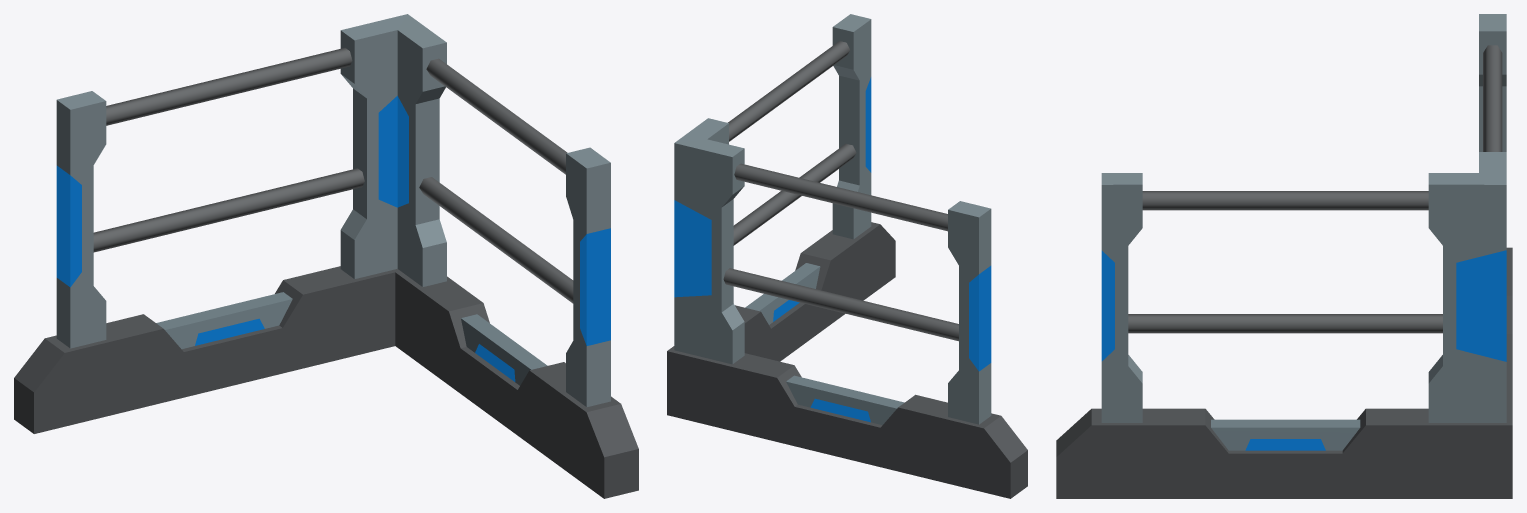
Rendered from Fence_type_B_010.glb.
3 views of the same model, side by side, from view 1: azimuth 30°, elevation 25°; view 2: azimuth 150°, elevation 25°; view 3: azimuth 270°, elevation 25° (orthographic). The views are drawn at different scales.
Visible parts, largest first — view 1: Fence_type_B_010; view 2: Fence_type_B_010; view 3: Fence_type_B_010.
Boxes of the visible parts, <box> form: Fence_type_B_010: <box>14,14,638,498</box>; Fence_type_B_010: <box>667,14,1027,498</box>; Fence_type_B_010: <box>1056,14,1512,498</box>.
Bounding box in the file's own units: 1.89 × 1.42 × 1.89.
2 materials, 2 textured.
